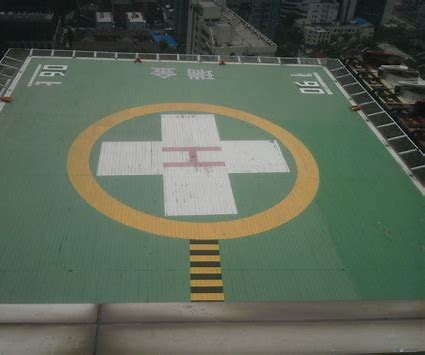H: (162, 147, 226, 169)
